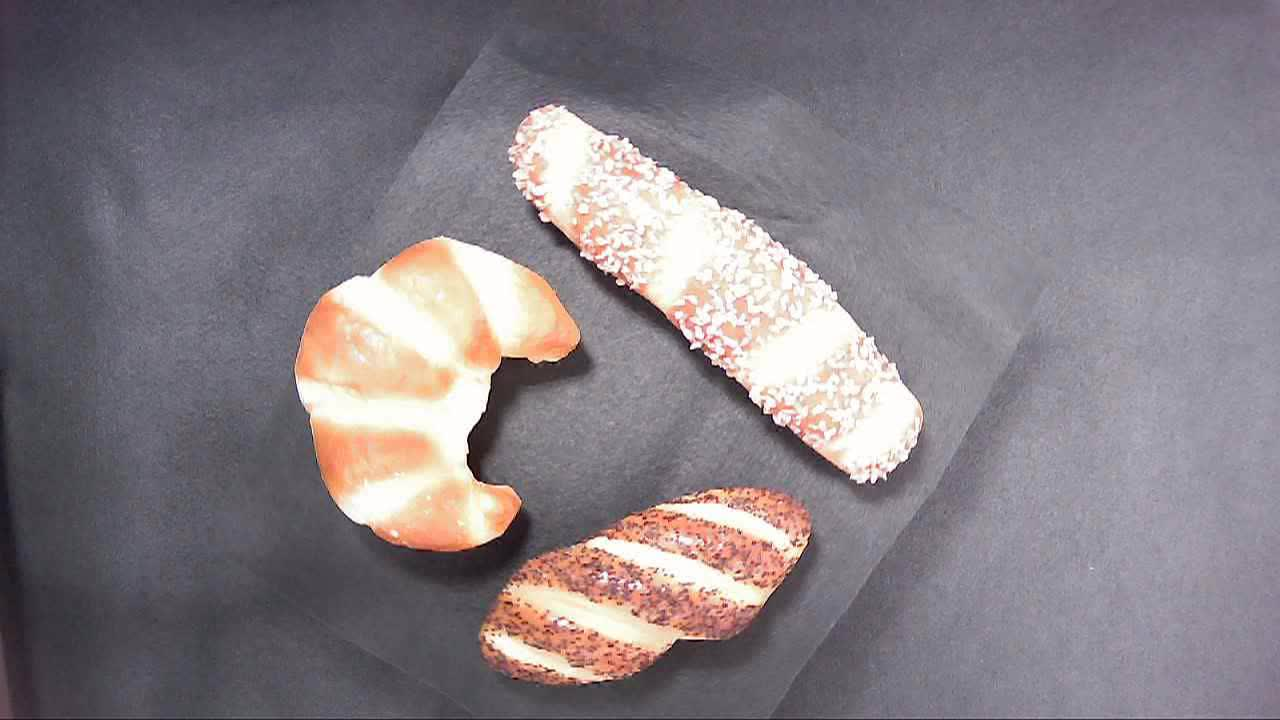cow: (286, 231, 549, 554), (273, 289, 600, 370)
long: (605, 122, 933, 486), (494, 81, 792, 239), (823, 270, 936, 493), (562, 88, 624, 302)
